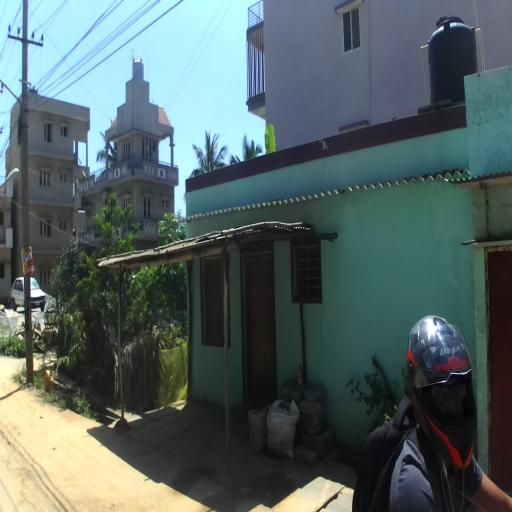street_light_0: (0, 166, 20, 191)
